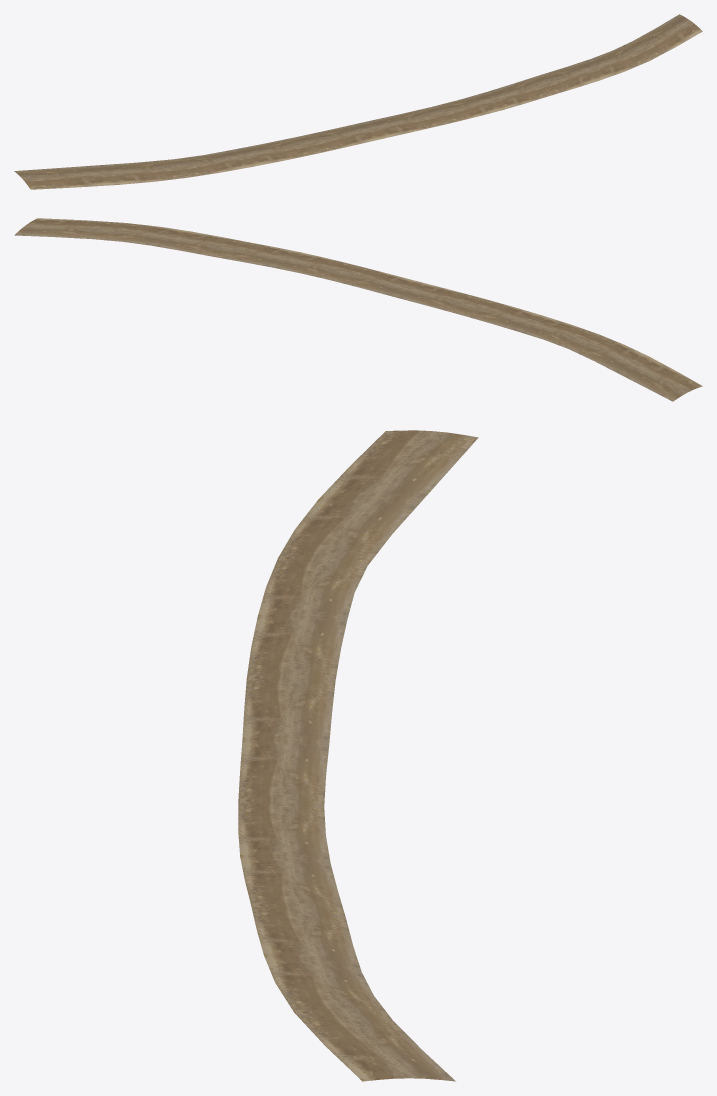
File: Road.FBX
3 renders of one model, top to bottom at view 1: azimuth 30°, elevation 25°; view 2: azimuth 150°, elevation 25°; view 3: azimuth 270°, elevation 25°, orthographic. The views are drawn at different scales.
Parts seen in each view (by area): view 1: Plane001; view 2: Plane001; view 3: Plane001.
Part boxes in pixels (left/top/right/bottom): Plane001: left=14, top=14, right=702, bottom=189; Plane001: left=14, top=218, right=702, bottom=401; Plane001: left=238, top=430, right=478, bottom=1081.
Size of the model in its own units: 148 by 0.3389 by 23.17.
